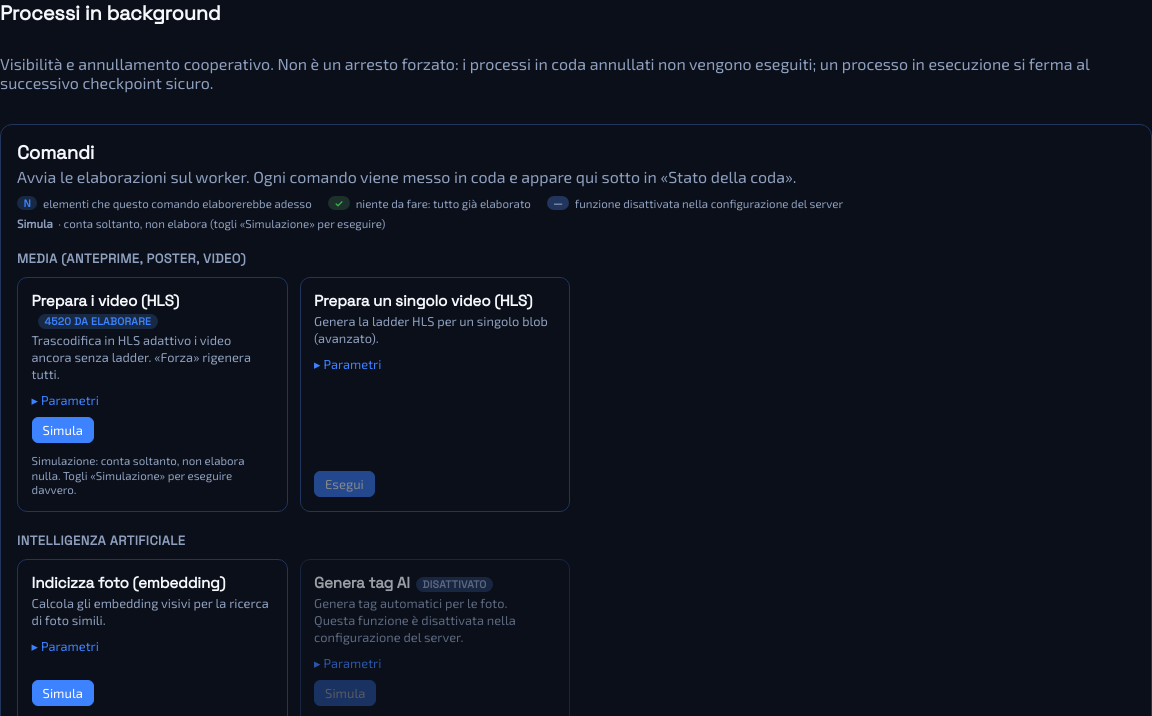
AdminJobsPage — commands console › enqueues a command with its parameters and shows feedback
Expected: the heading "Prepara i video (HLS) 4520 da elaborare" is shown, [32,291,179,329]
Note: Open the params, set a limit, run.
Click the button "▸ Parametri" below "4520 da elaborare" at (65, 400), box [32,392,99,408]
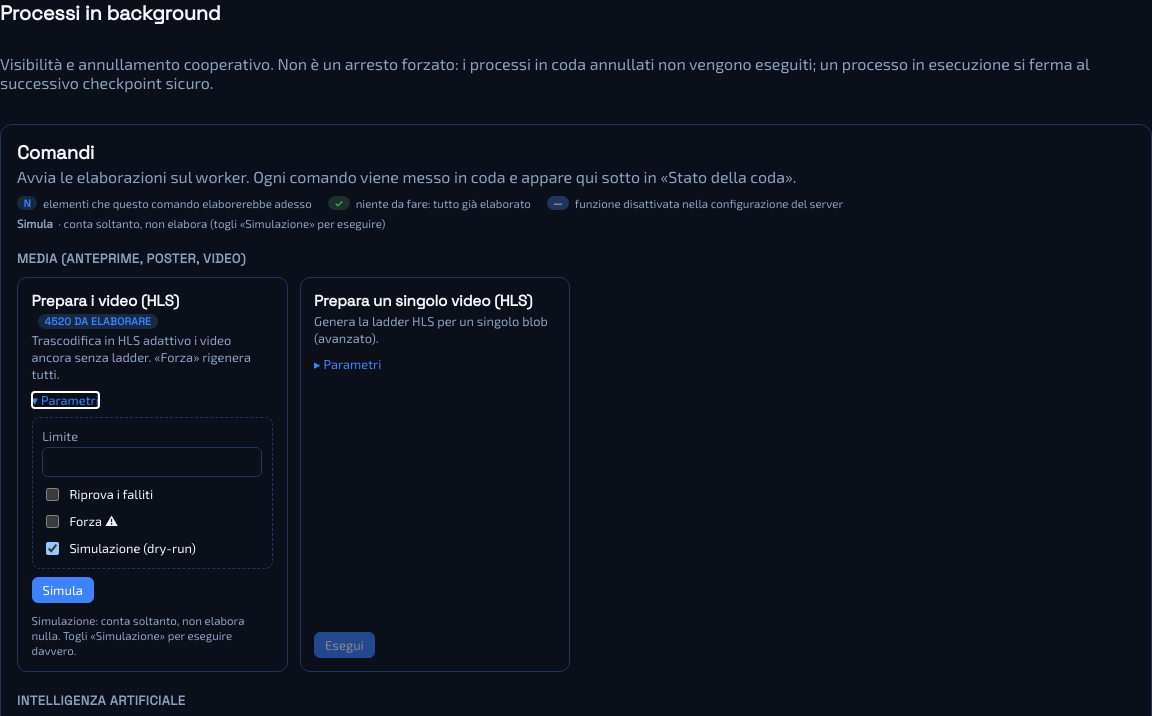
Type "5" into the number field labelled "Limite" at (152, 462), box [42,447,262,477]
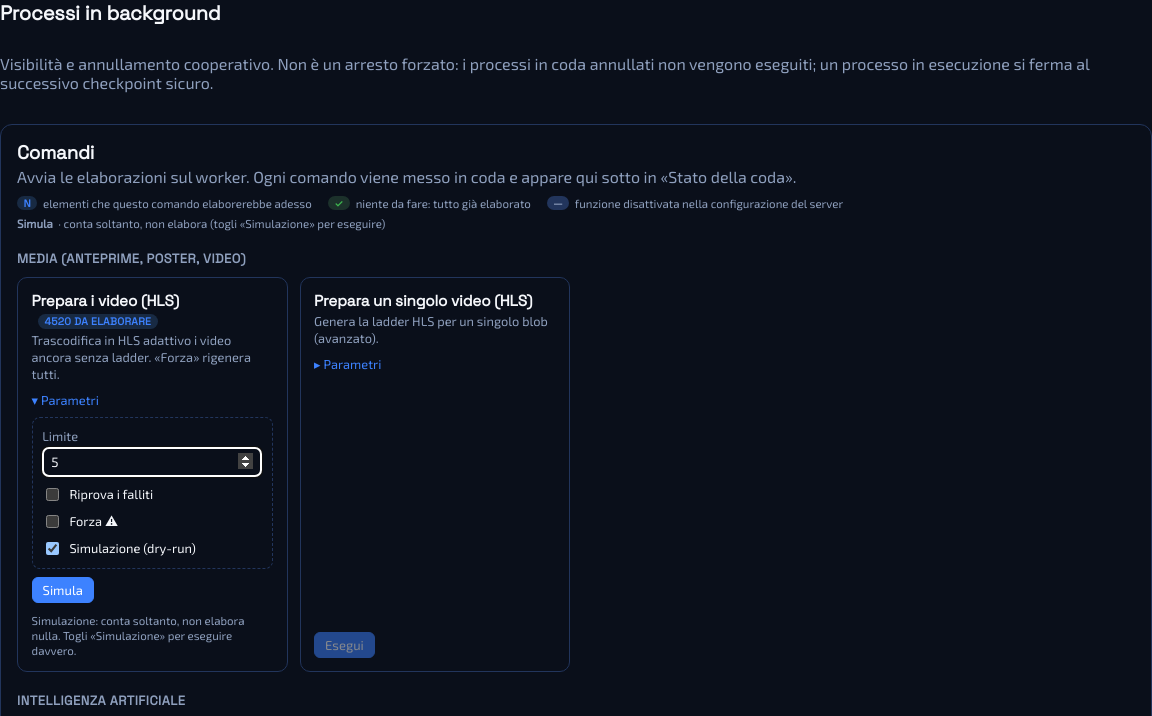
Note: Dry-run is preselected → the action is labelled "Simula".
Click the button "Simula" at (63, 590), box [32,577,94,603]
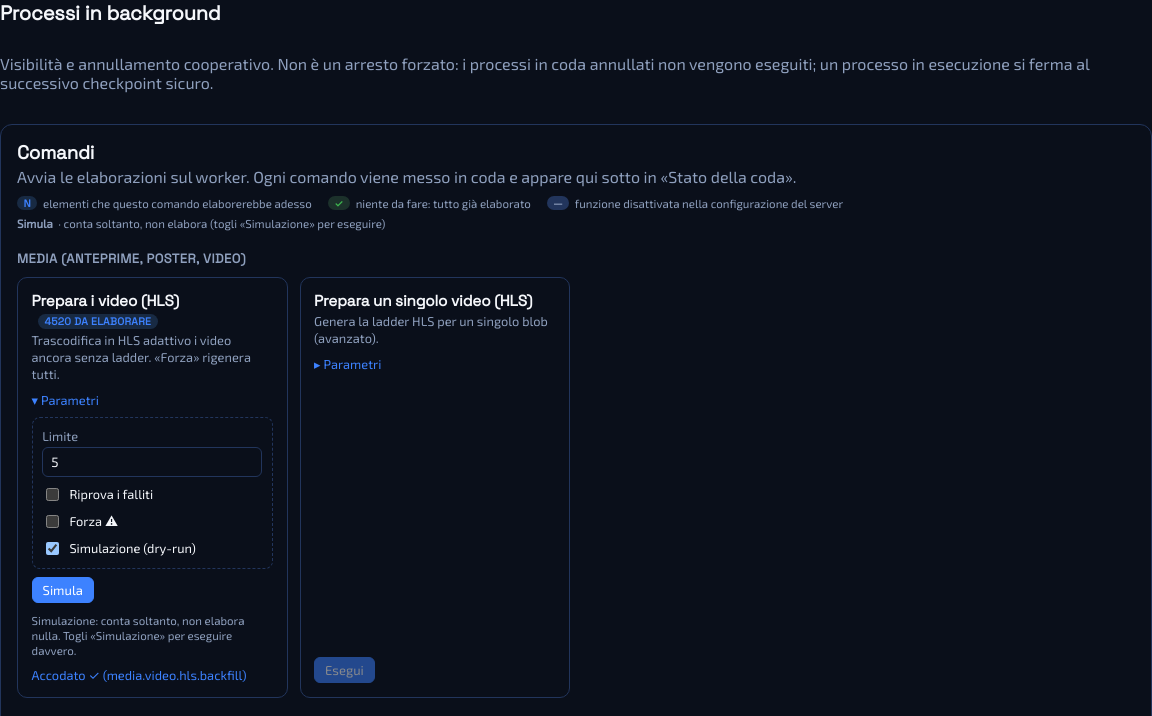
Now the text "Accodato ✓ (media.video.hls.backfill)" is shown, box [32,667,247,683]
